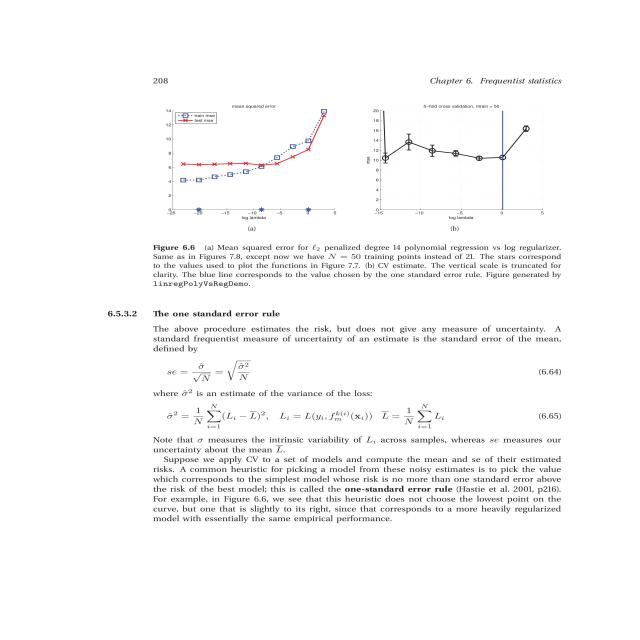diagram: (139, 94, 640, 298)
